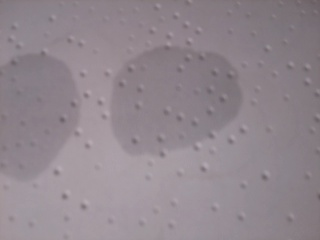Water_detected: (130, 59, 215, 143), (0, 76, 77, 158)
